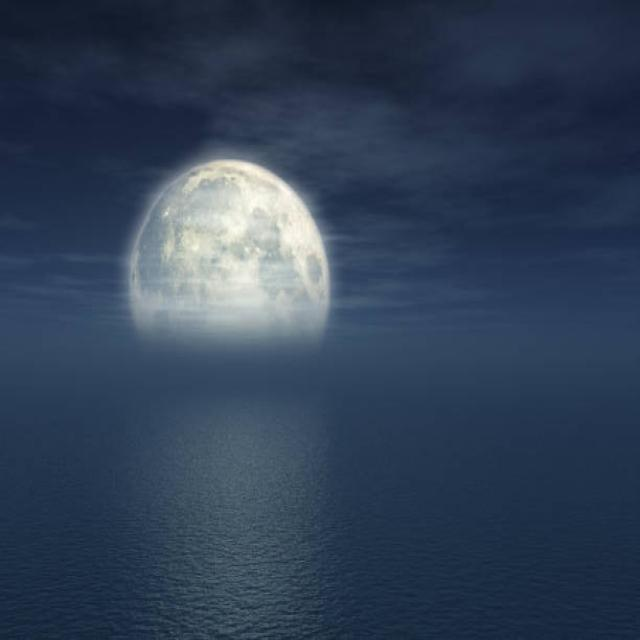moon: (133, 162, 329, 354)
